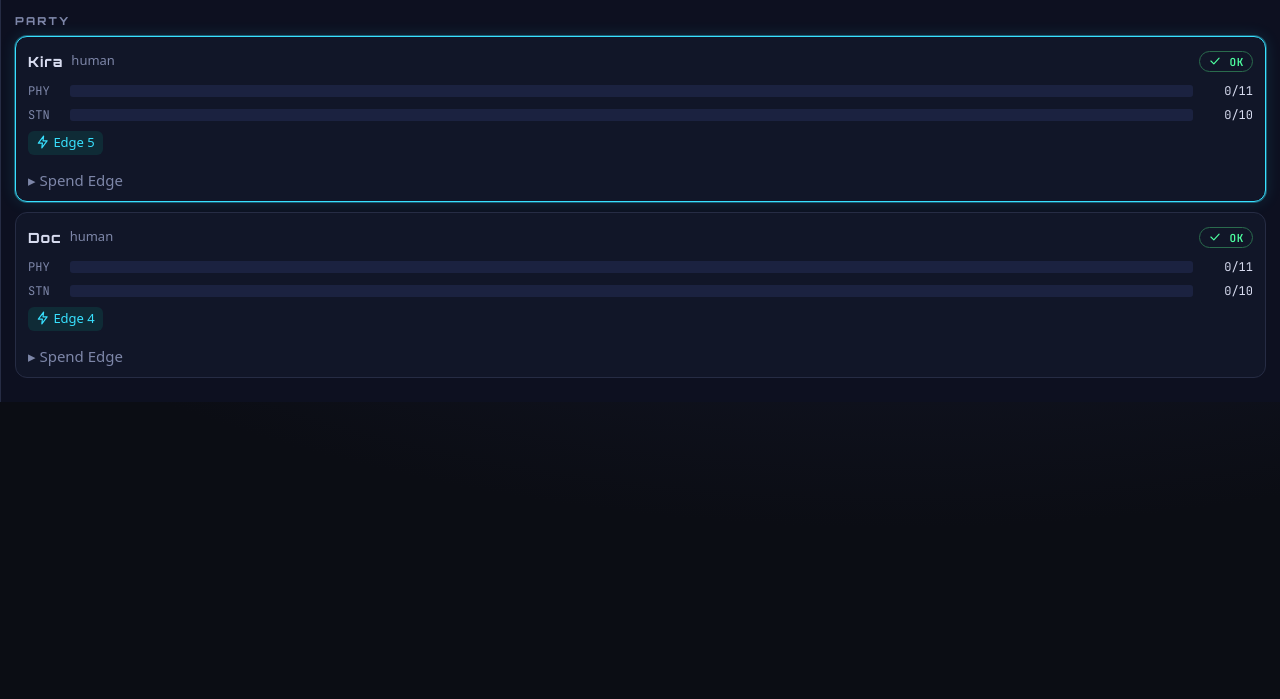
Test case: the Edge menu on a party card › starts closed, and lists the five uses with their costs when opened
Check: the text "Give an ally 1 Edge" is not shown
Click the 1st button "▸ Spend Edge": click(76, 180) [28, 168, 123, 191]
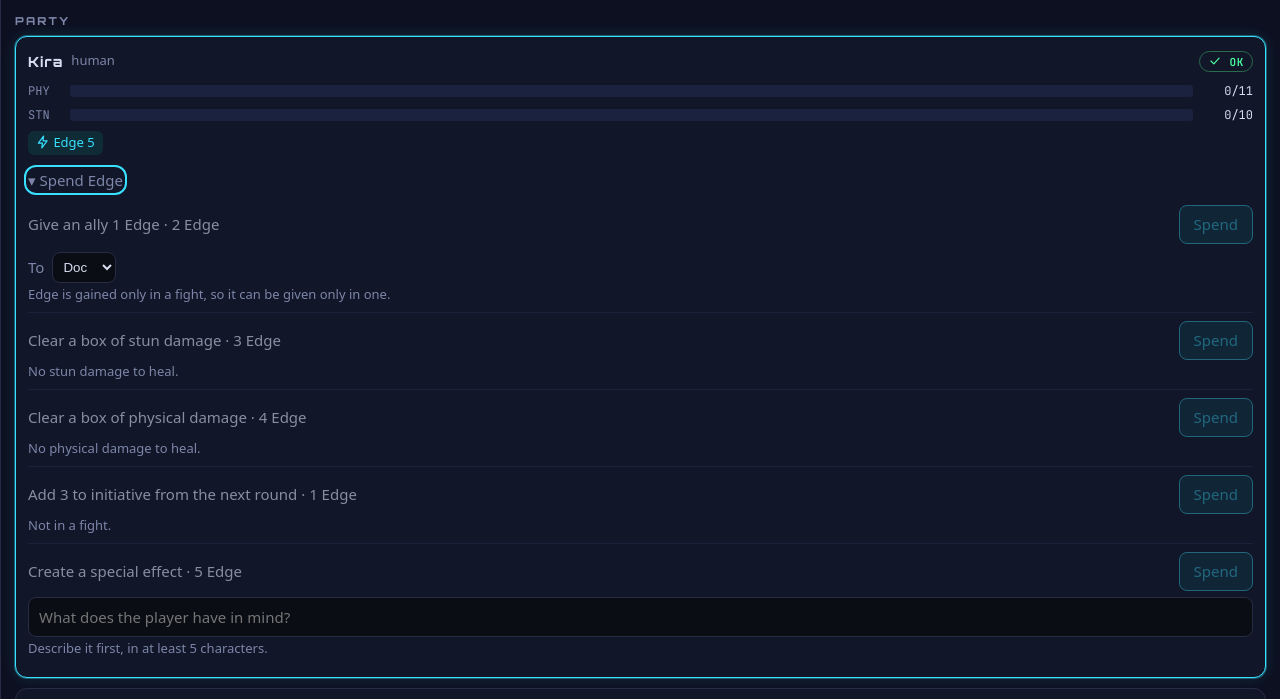
Check: the text "Give an ally 1 Edge · 2 Edge" is shown, box [28, 213, 219, 236]
Check: the text "Clear a box of stun damage · 3 Edge" is shown, box [28, 329, 281, 352]
Check: the text "Clear a box of physical damage · 4 Edge" is shown, box [28, 406, 306, 428]
